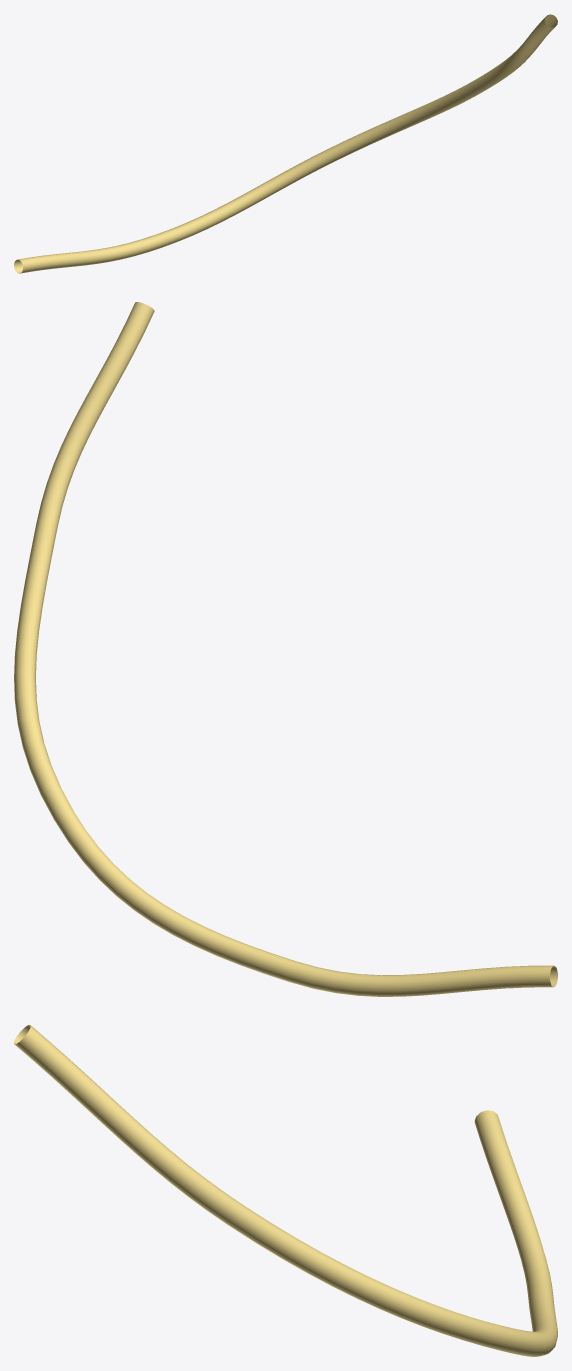
The picture shows the model from 3 angles, top to bottom: view 1: azimuth 30°, elevation 25°; view 2: azimuth 150°, elevation 25°; view 3: azimuth 270°, elevation 25°; orthographic projection. The views are drawn at different scales.
Parts seen in each view (by area): view 1: ZA_f6ad7cf625b693f5; view 2: ZA_f6ad7cf625b693f5; view 3: ZA_f6ad7cf625b693f5.
Part boxes in pixels (bbox=[...]): ZA_f6ad7cf625b693f5: bbox=[14, 14, 557, 273]; ZA_f6ad7cf625b693f5: bbox=[14, 302, 557, 996]; ZA_f6ad7cf625b693f5: bbox=[14, 1025, 557, 1356].
Size of the model in its own units: 0.0335 by 0.0215 by 0.0215.
